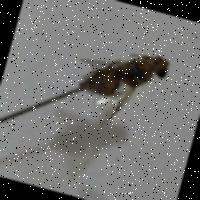Oriental-fruit-fly: (55, 25, 179, 152)
